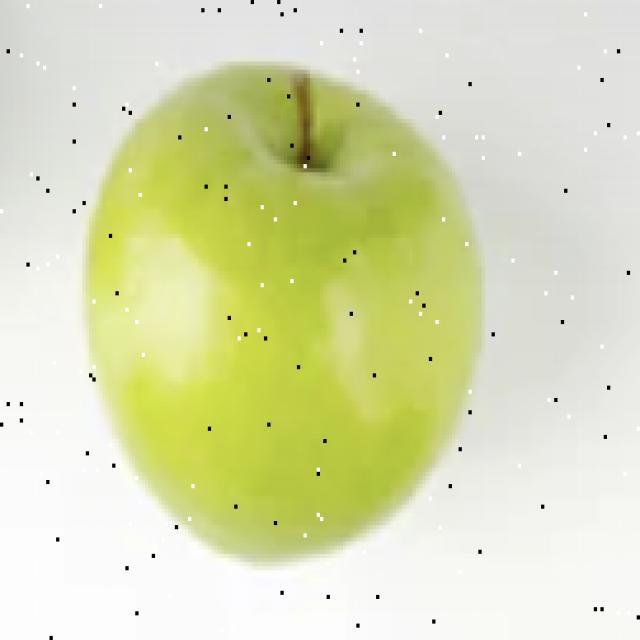Fresh Apple: (85, 63, 497, 557)
